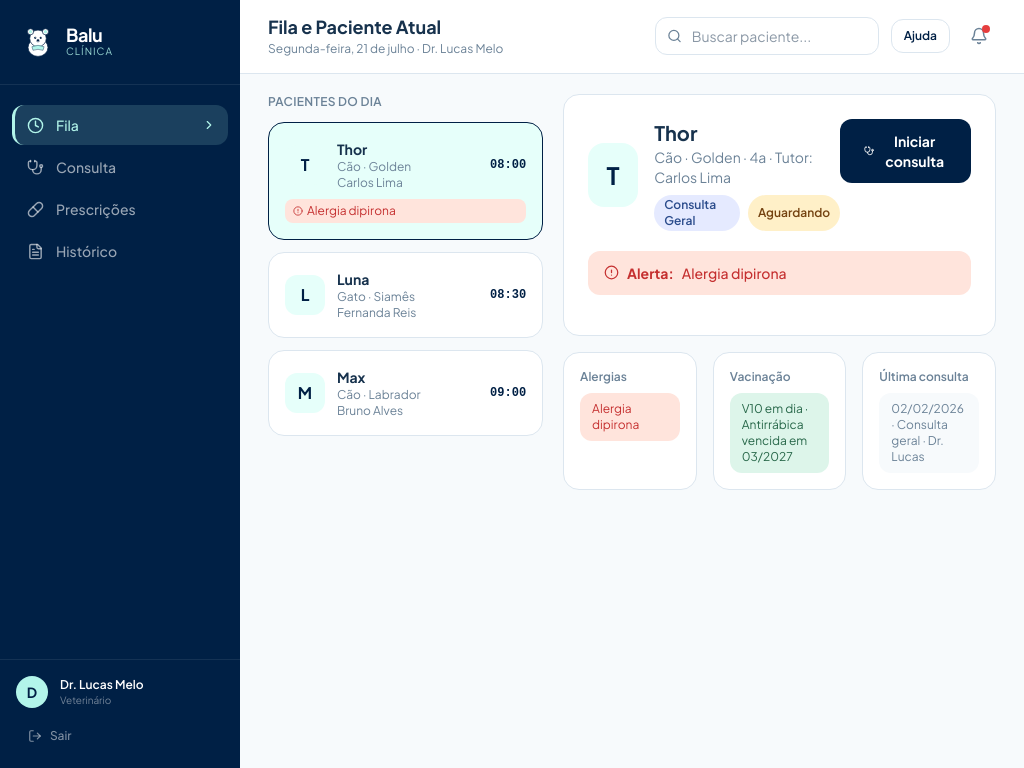
Test: oferece orientação própria nas telas veterinárias
Click the button "Ajuda": [920, 36] box [891,19,950,53]
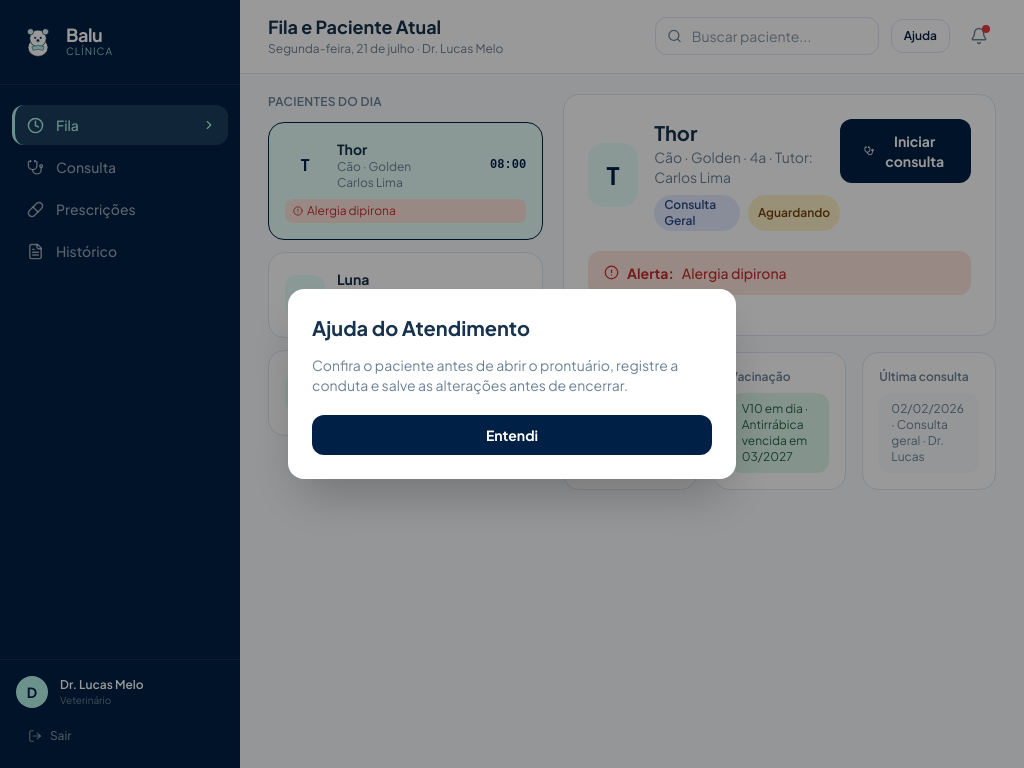
Expected: the text "prontuário" is shown, [312,356,678,394]
